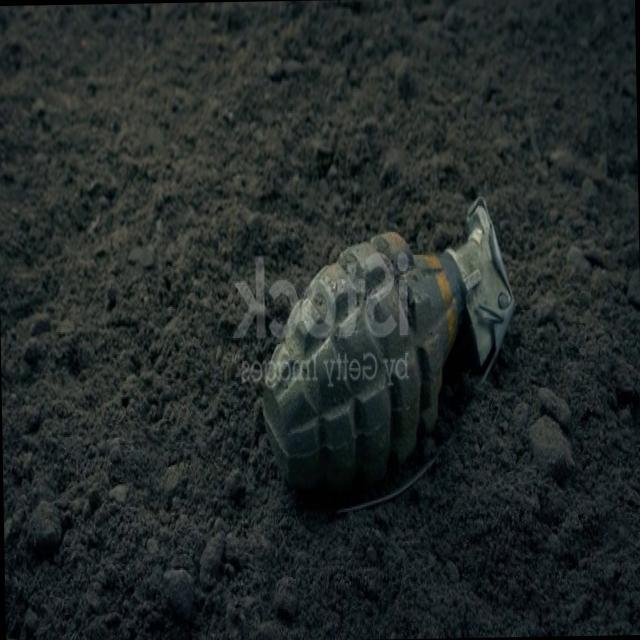grenade: (258, 200, 520, 518)
